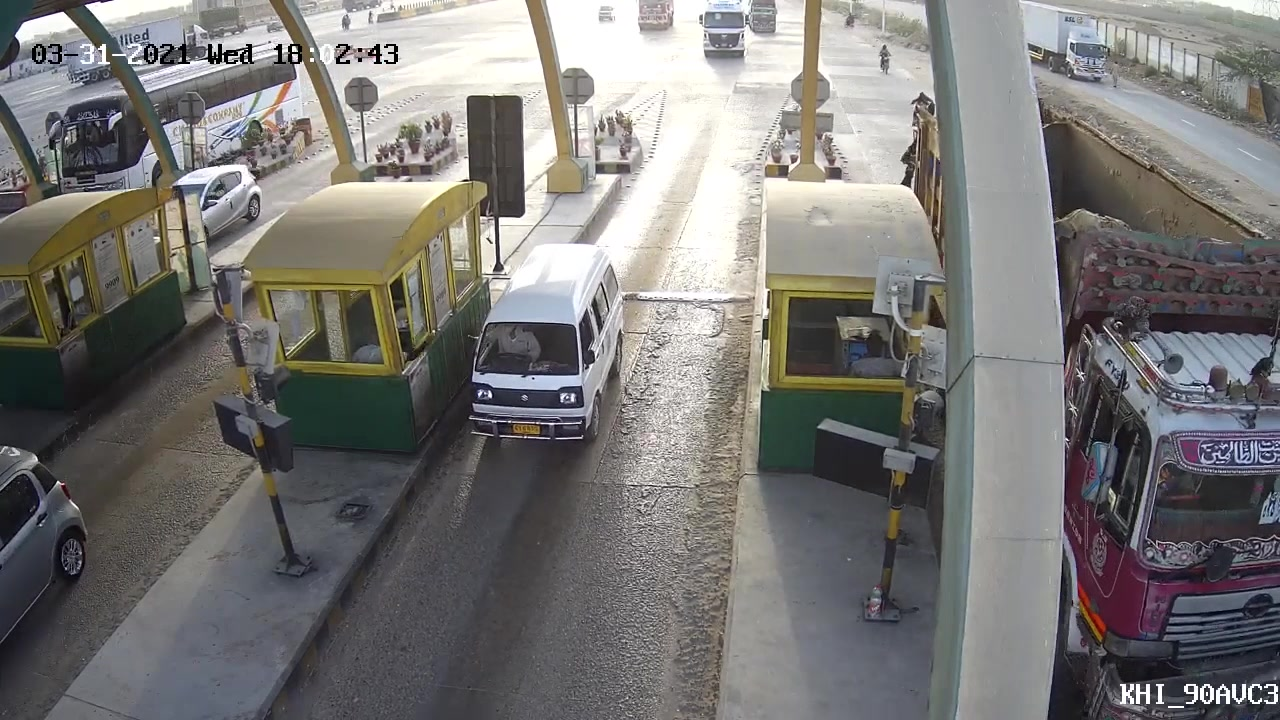F2: (457, 235, 637, 448)
